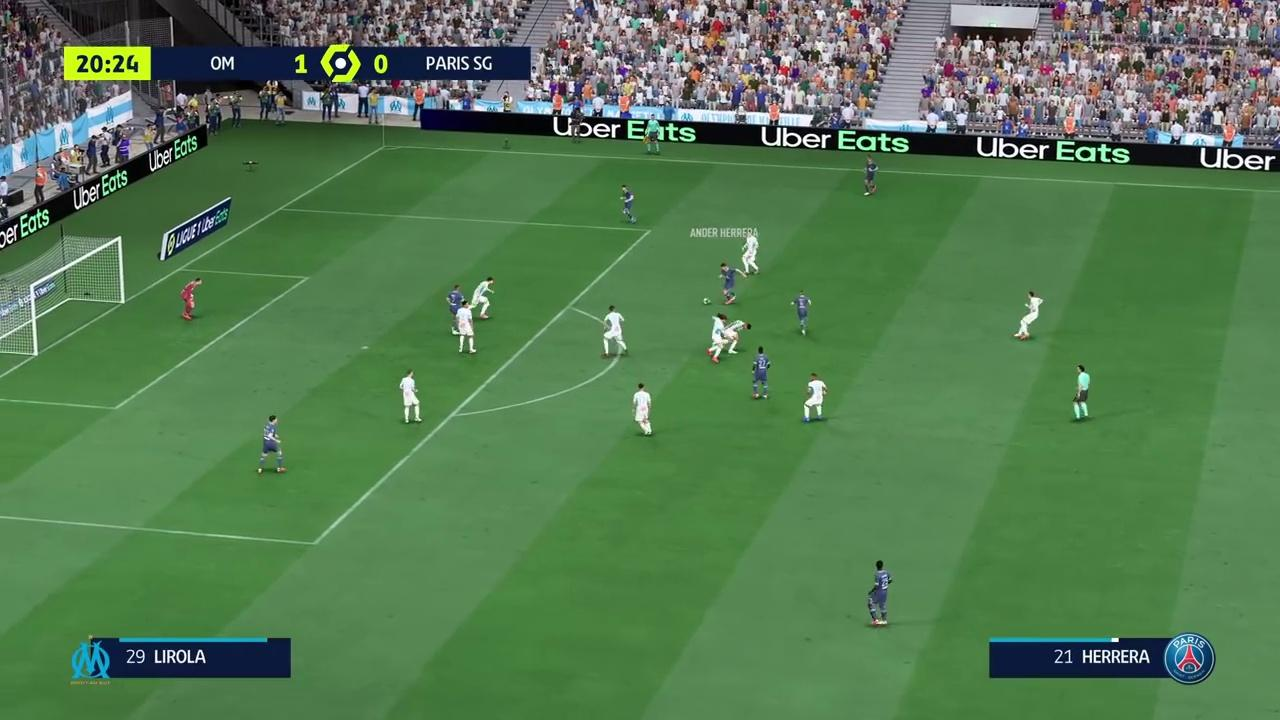scoreboard: (157, 50, 532, 81)
timestamp: (65, 47, 153, 79)
